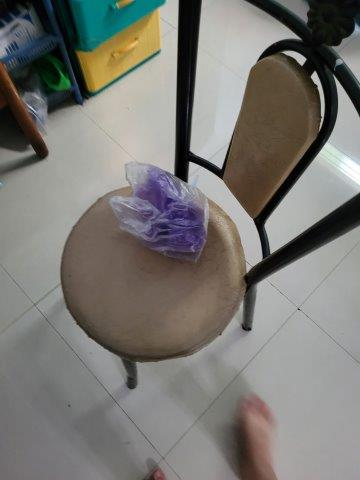plastik: (113, 162, 215, 263)
